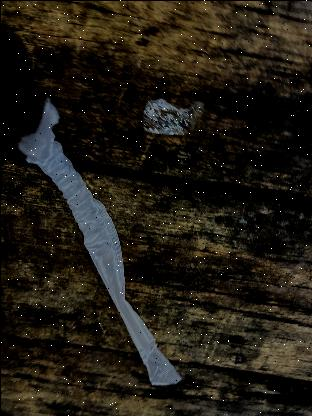Others: (14, 100, 181, 387), (134, 92, 198, 140)
